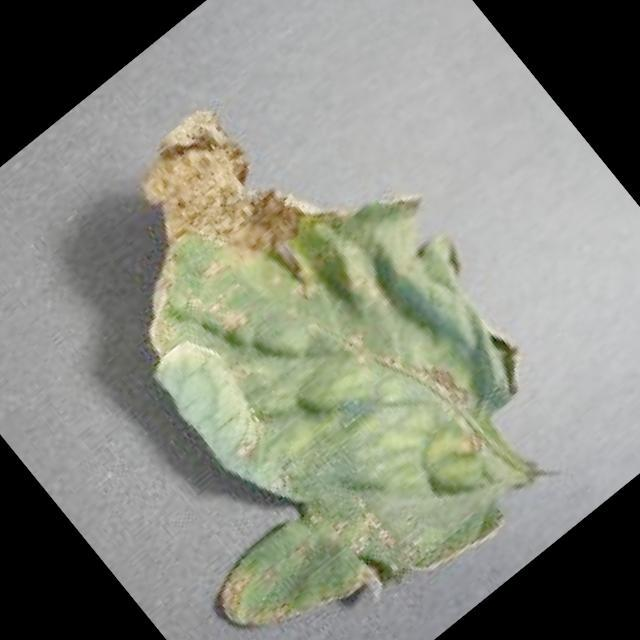Tomato bacterial spot leaf: (0, 28, 621, 640)
